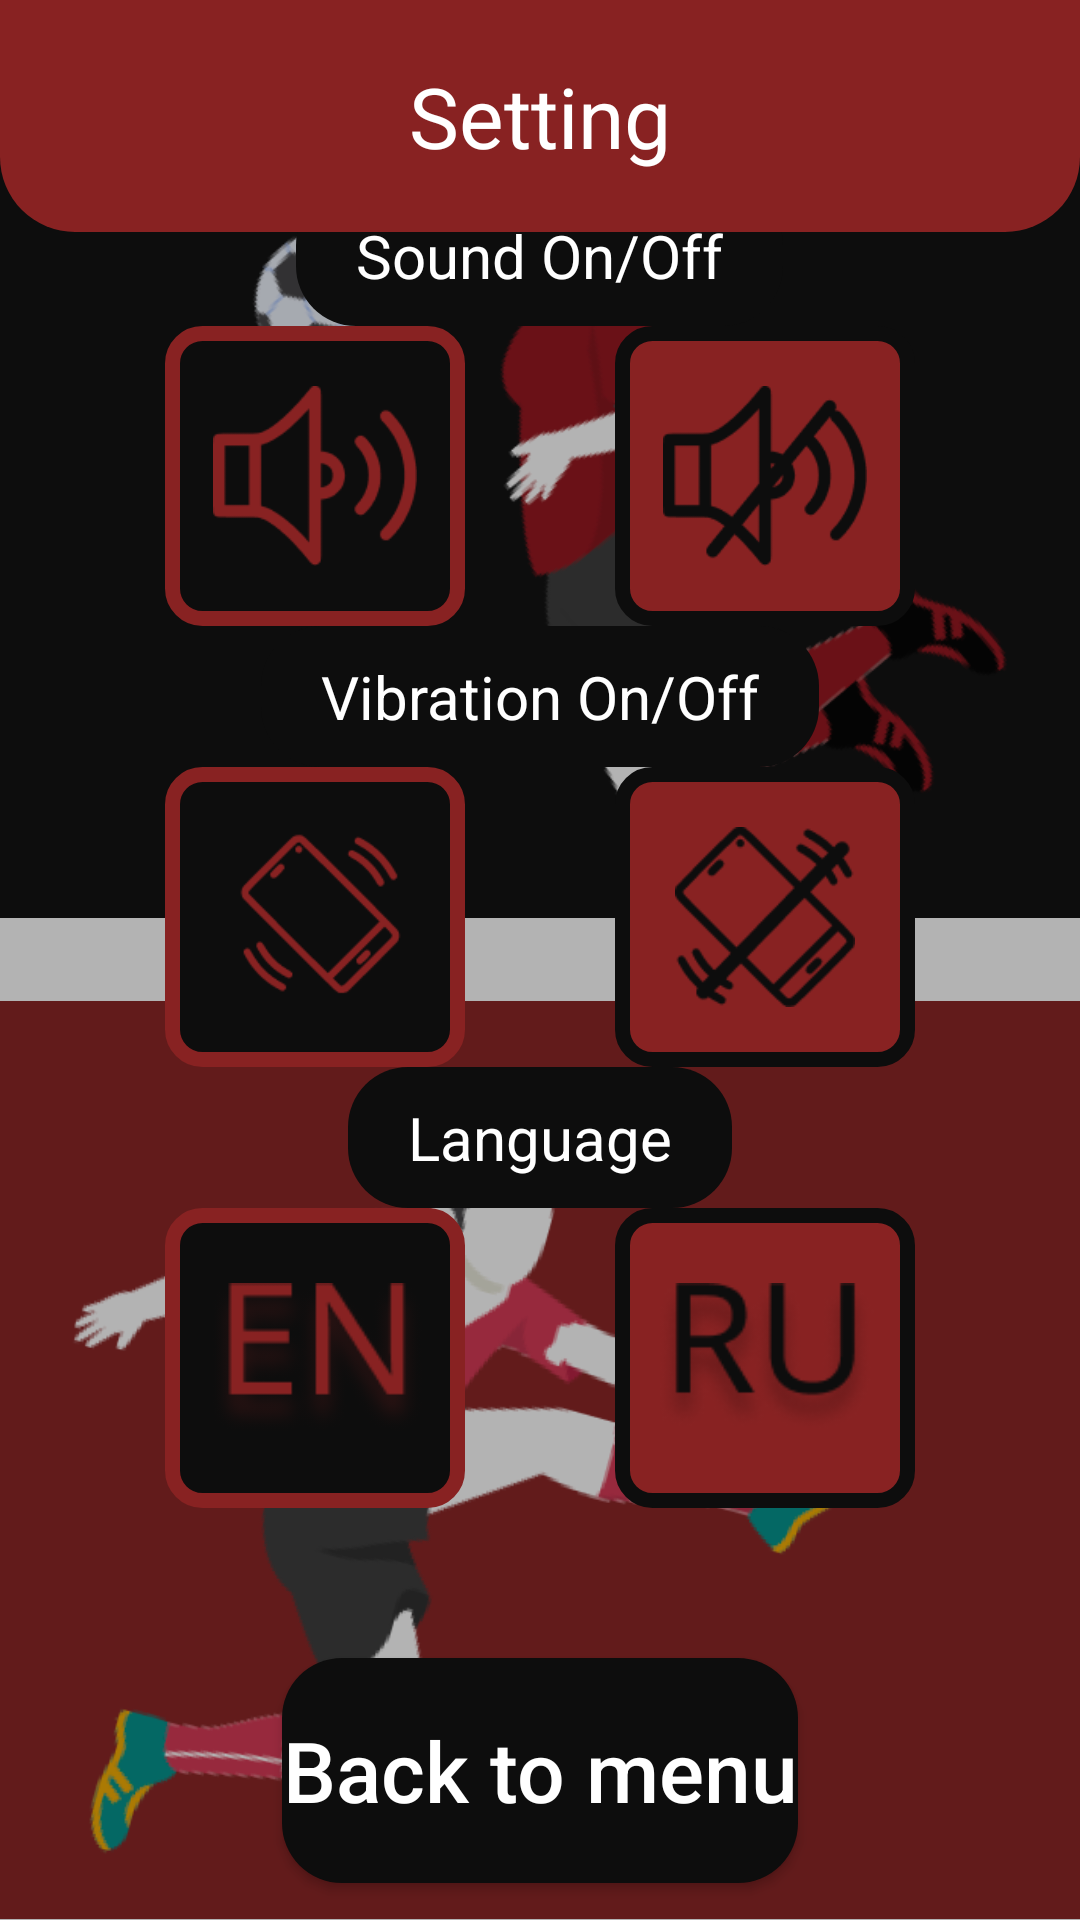

Locate icon controls on the screen. Image size 1080×1920, boxes as rect(x1, y1, x2, y2).
mute off: rect(165, 326, 465, 626)
mute on: rect(630, 341, 900, 611)
